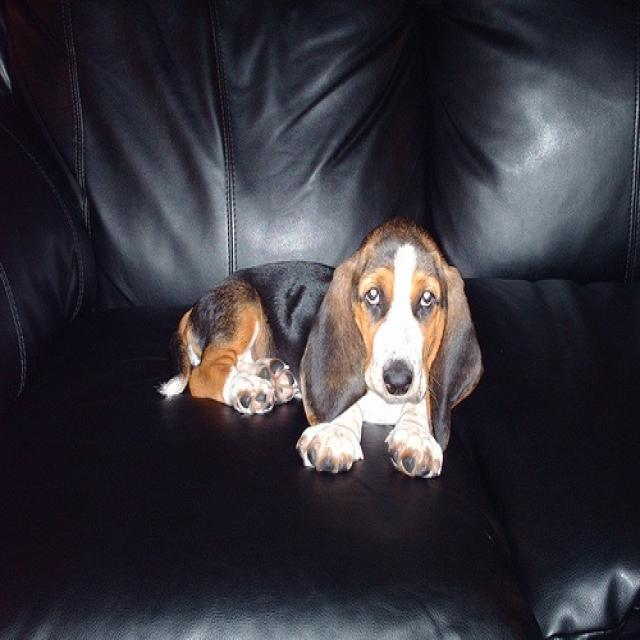dog: (158, 213, 485, 483)
sofa: (4, 5, 637, 632)
